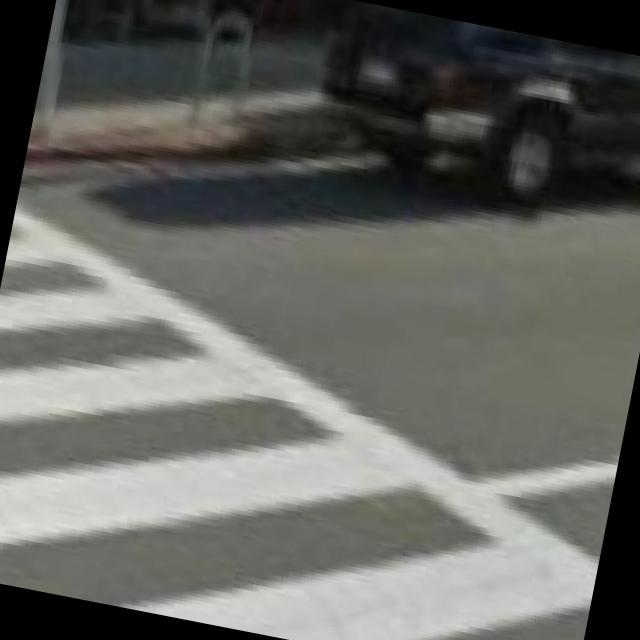zebra: (0, 200, 597, 640)
